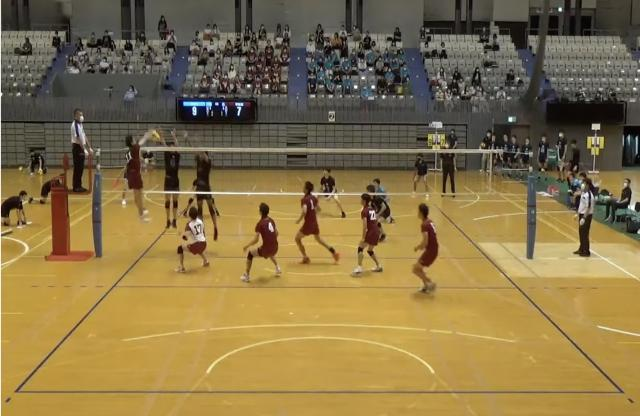spike: (120, 122, 161, 226)
